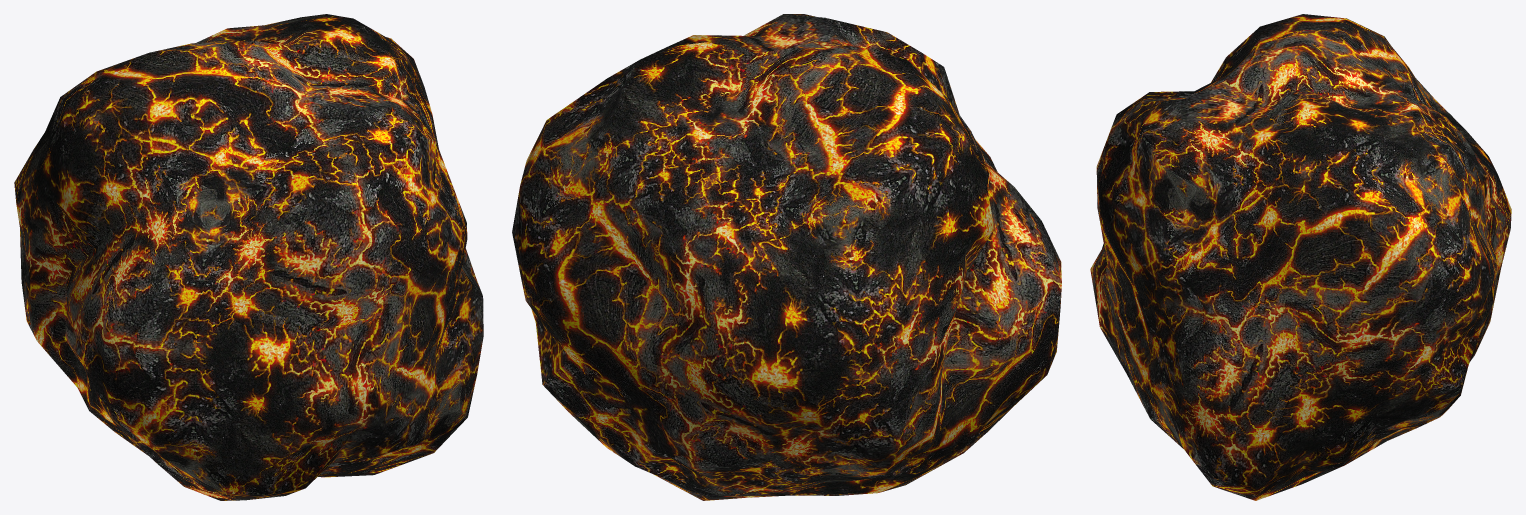
File: asteroid_moltenrock_large_s02_l0.fbx
The picture shows the model from 3 angles, left to right: view 1: azimuth 30°, elevation 25°; view 2: azimuth 150°, elevation 25°; view 3: azimuth 270°, elevation 25°; orthographic projection. The views are drawn at different scales.
Visible parts, largest first — view 1: mesh_node; view 2: mesh_node; view 3: mesh_node.
Boxes of the visible parts, x1,y1,x2,y2 form: mesh_node: (14, 14, 483, 500); mesh_node: (512, 14, 1061, 500); mesh_node: (1090, 14, 1511, 500).
Size of the model in its own units: 108 by 113 by 107.
